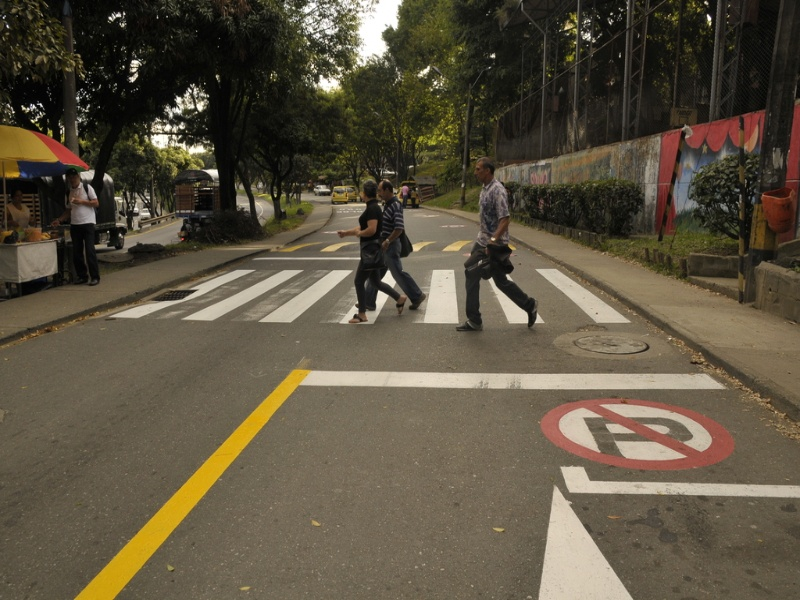no_parking: (528, 372, 737, 499)
